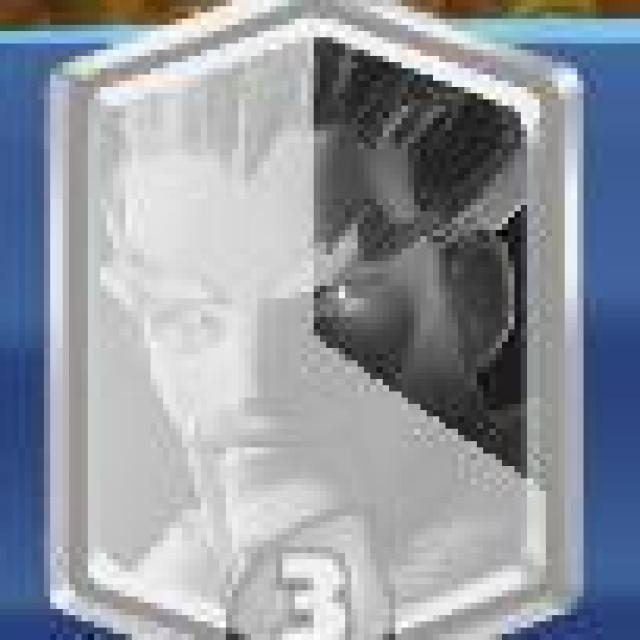Ice_Wizard: (46, 1, 594, 640)
